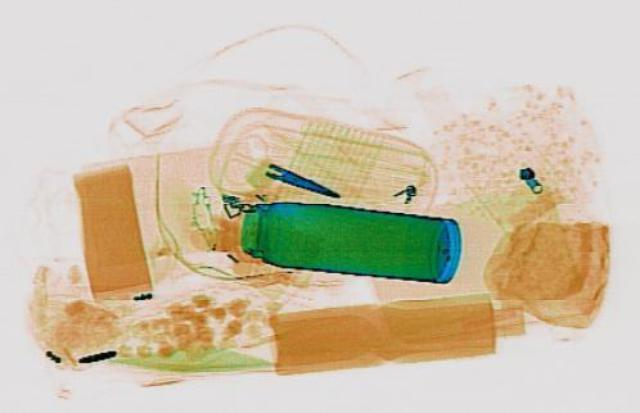Knife: (256, 159, 344, 200)
